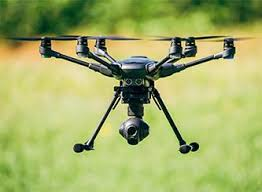Drone: (5, 14, 257, 185)
